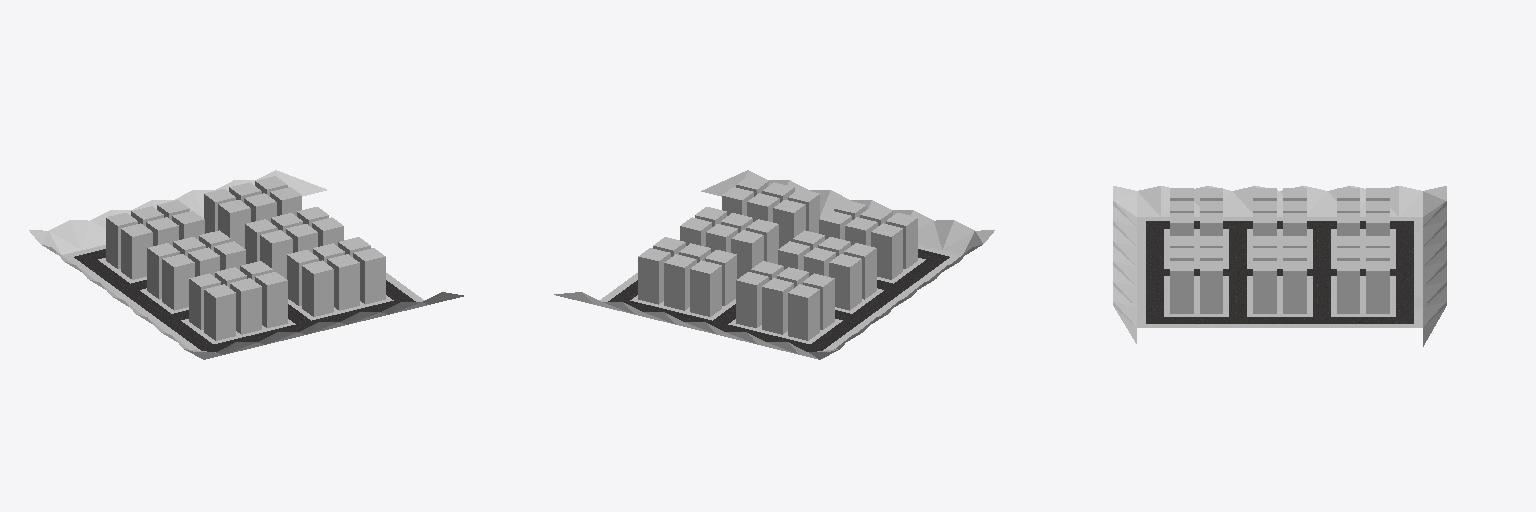
The picture shows the model from 3 angles: view 1: azimuth 30°, elevation 25°; view 2: azimuth 150°, elevation 25°; view 3: azimuth 270°, elevation 25°; orthographic projection.
Size of the model in its own units: 560 by 80 by 560.
Materials: 4 (1 with a texture image).